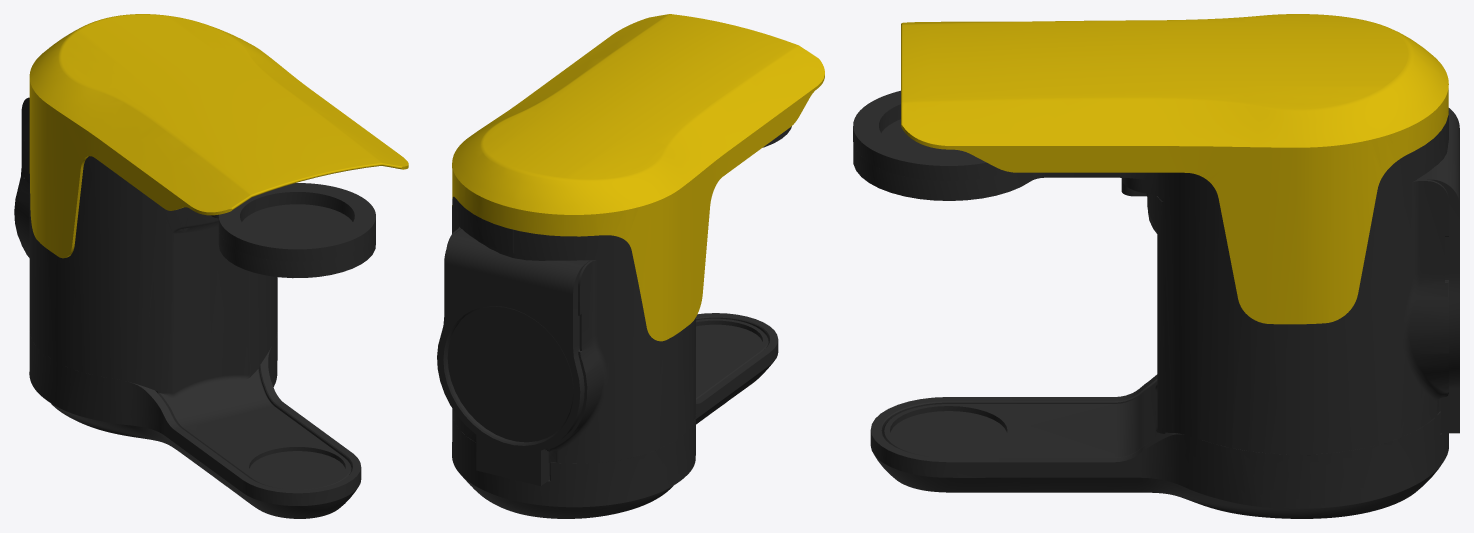
Rendered from arml5.glb.
3 views of the same model, side by side, from view 1: azimuth 30°, elevation 25°; view 2: azimuth 150°, elevation 25°; view 3: azimuth 270°, elevation 25° (orthographic). The views are drawn at different scales.
Visible parts, largest first — view 1: Exported from Blender-3.0.1; view 2: Exported from Blender-3.0.1; view 3: Exported from Blender-3.0.1.
Boxes of the visible parts, bbox=[...] form: Exported from Blender-3.0.1: bbox=[14, 14, 408, 518]; Exported from Blender-3.0.1: bbox=[437, 14, 824, 518]; Exported from Blender-3.0.1: bbox=[853, 14, 1459, 518].
Bounding box in the file's own units: 0.082 × 0.1246 × 0.165.
